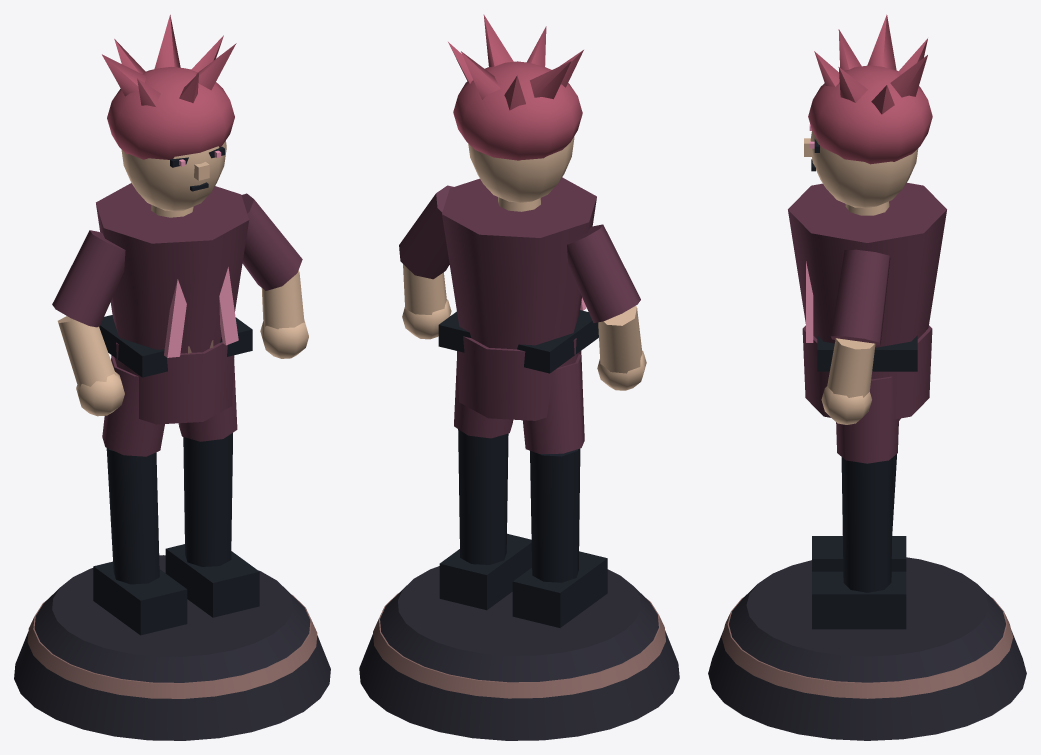
File: hisoka.glb
3 views of the same model, side by side, from view 1: azimuth 30°, elevation 25°; view 2: azimuth 150°, elevation 25°; view 3: azimuth 270°, elevation 25° (orthographic).
Visible parts, largest first — view 1: Placeholder Hisoka Morow; view 2: Placeholder Hisoka Morow; view 3: Placeholder Hisoka Morow.
Part boxes in pixels (bbox=[...]): Placeholder Hisoka Morow: bbox=[14, 14, 330, 740]; Placeholder Hisoka Morow: bbox=[359, 14, 679, 740]; Placeholder Hisoka Morow: bbox=[708, 14, 1026, 740].
Size of the model in its own units: 0.54 by 1.18 by 0.54.
